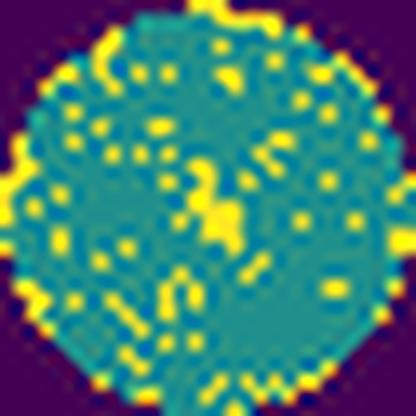Center: (172, 157, 246, 255)
